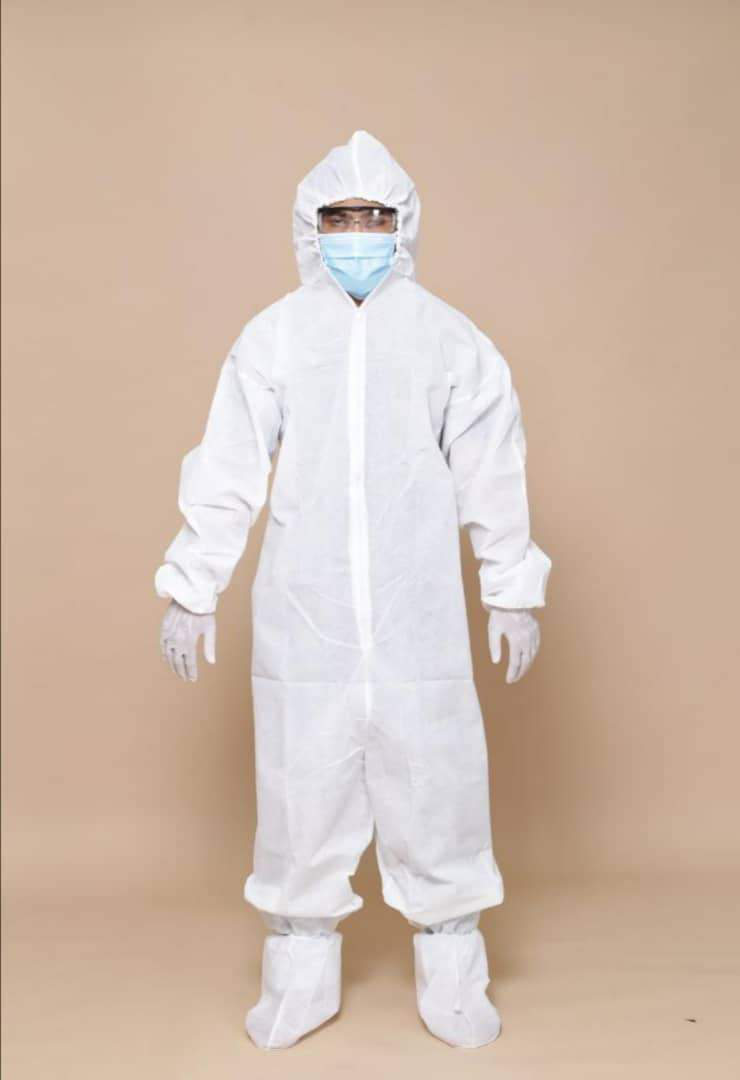Coverall: (169, 134, 539, 967)
Gloves: (483, 597, 541, 692), (155, 596, 217, 684)
Goggles: (311, 198, 404, 246)
with_mask: (309, 216, 407, 304)
